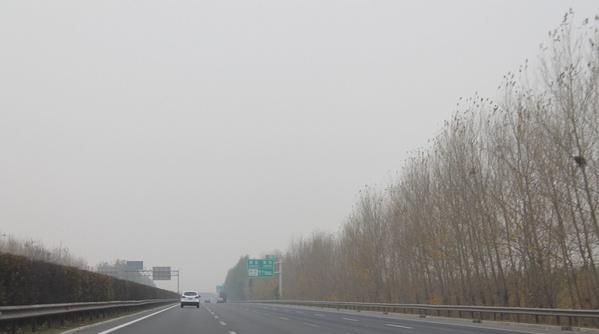car: (180, 290, 201, 309)
